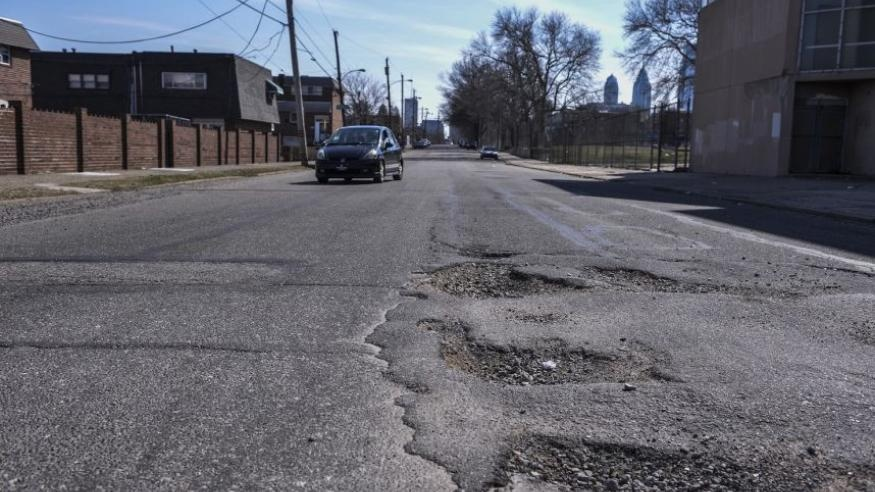pothole: (344, 209, 788, 403)
